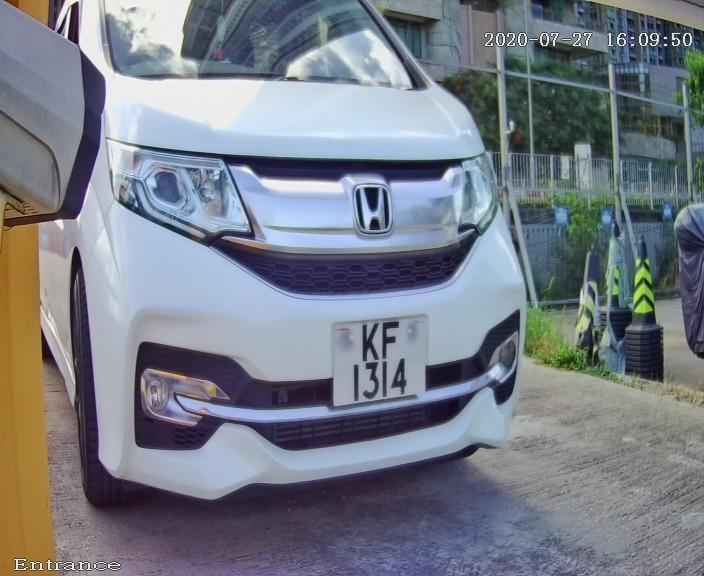privatecar: (29, 11, 598, 523)
